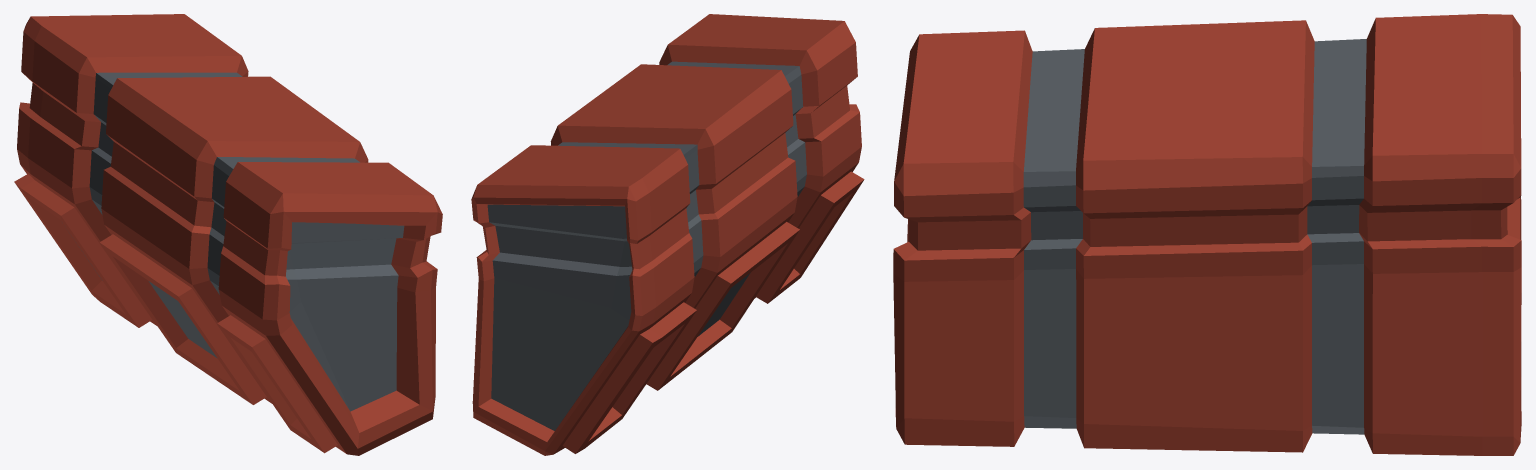
File: Fighter_10_Engine_Right_Red.fbx
The picture shows the model from 3 angles, left to right: view 1: azimuth 30°, elevation 25°; view 2: azimuth 150°, elevation 25°; view 3: azimuth 270°, elevation 25°; orthographic projection. The views are drawn at different scales.
Parts seen in each view (by area): view 1: Fighter_10_Engine_Right_Red; view 2: Fighter_10_Engine_Right_Red; view 3: Fighter_10_Engine_Right_Red.
Boxes of the visible parts, x1,y1,x2,y2 form: Fighter_10_Engine_Right_Red: [14, 14, 442, 455]; Fighter_10_Engine_Right_Red: [471, 14, 864, 455]; Fighter_10_Engine_Right_Red: [893, 14, 1521, 455].
Bounding box in the file's own units: 403 × 595 × 912.
2 materials, 2 textured.
